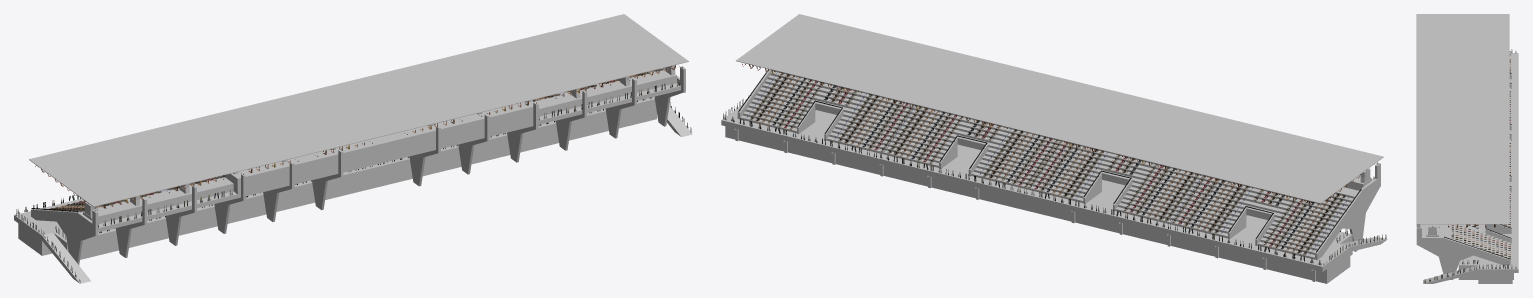
The model's file is GrandStand-04.obj.
3 views of the same model, side by side, from view 1: azimuth 30°, elevation 25°; view 2: azimuth 150°, elevation 25°; view 3: azimuth 270°, elevation 25° (orthographic). The views are drawn at different scales.
Visible parts, largest first — view 1: GrandStand-04; view 2: GrandStand-04; view 3: GrandStand-04.
Part boxes in pixels (bbox=[...]): GrandStand-04: bbox=[14, 14, 692, 283]; GrandStand-04: bbox=[721, 14, 1387, 283]; GrandStand-04: bbox=[1416, 14, 1518, 283].
Size of the model in its own units: 126 by 15.44 by 25.17.
